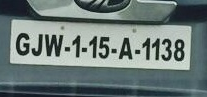1: (141, 37, 151, 61), (151, 38, 161, 62), (72, 35, 82, 58), (88, 36, 98, 59)
3: (161, 38, 173, 62)
5: (98, 36, 110, 59)
8: (173, 38, 185, 62)
A: (118, 37, 133, 60)
G: (15, 32, 31, 56)
J: (31, 33, 45, 57)
W: (44, 34, 64, 58)
